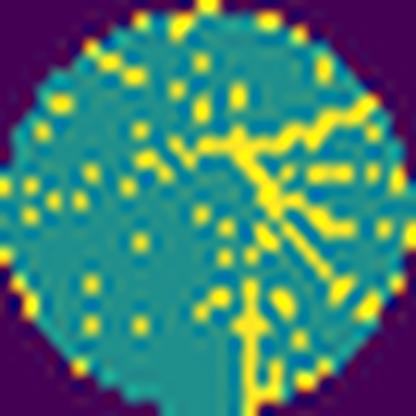Scratch: (167, 96, 389, 310), (228, 275, 286, 416)
